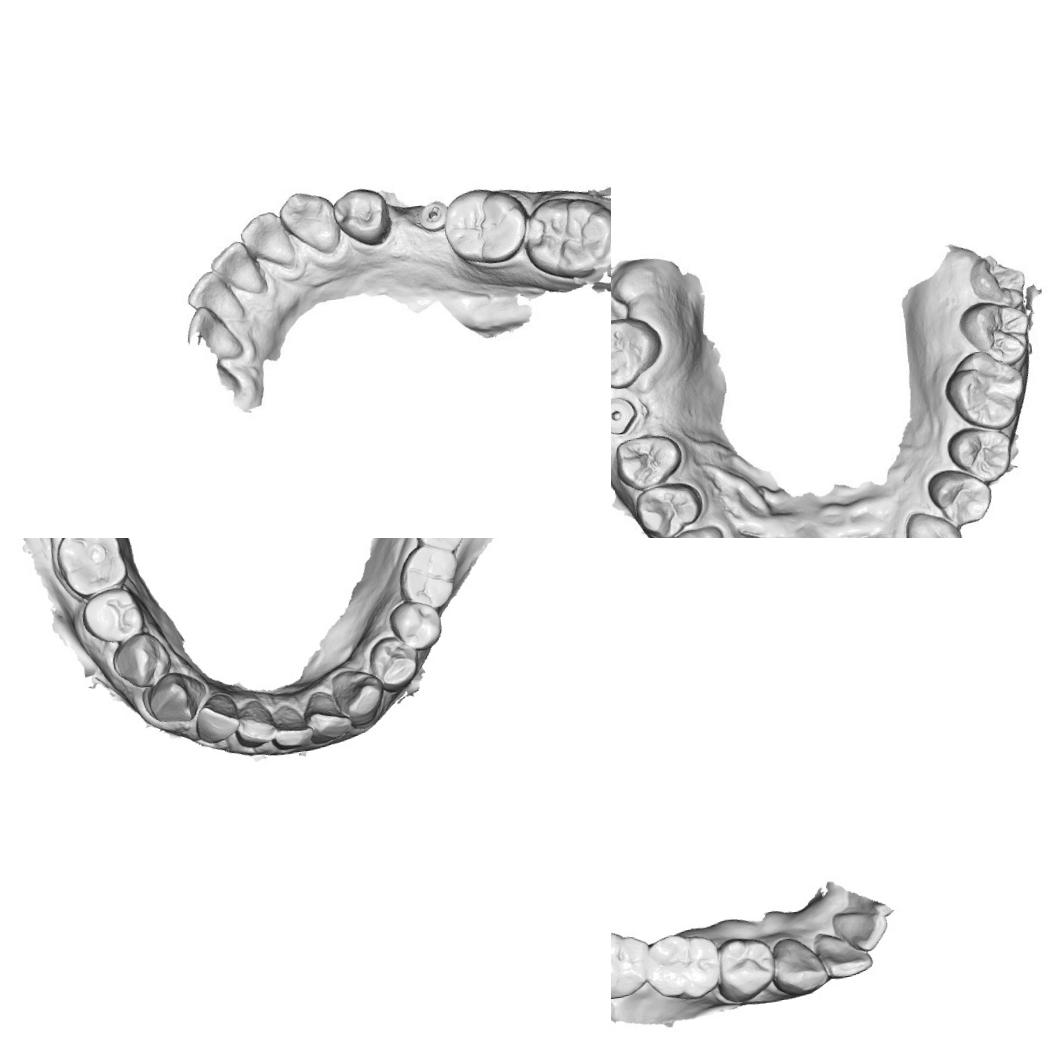canine: (274, 186, 344, 260), (768, 933, 832, 1002), (141, 668, 206, 728), (330, 664, 386, 730), (901, 506, 964, 538), (668, 520, 729, 538)
implant: (611, 391, 638, 438)
implant_minus: (412, 198, 450, 235)
incisor: (180, 265, 250, 330), (236, 207, 296, 274), (208, 236, 268, 303), (812, 925, 873, 981), (830, 904, 892, 955), (190, 692, 244, 746), (230, 696, 282, 752), (303, 686, 352, 745), (268, 700, 317, 756)
molar: (517, 189, 611, 284), (938, 346, 1034, 436), (436, 182, 530, 270), (954, 295, 1036, 370), (642, 929, 722, 1003), (395, 539, 463, 614), (52, 538, 128, 602), (611, 311, 666, 393), (611, 924, 655, 1007), (409, 538, 468, 554)
premolar: (924, 462, 999, 532), (944, 422, 1018, 489), (329, 181, 395, 254), (612, 431, 686, 494), (713, 932, 776, 1006), (631, 478, 707, 538), (78, 584, 146, 647), (107, 630, 177, 690), (365, 628, 424, 695), (386, 595, 448, 655)
